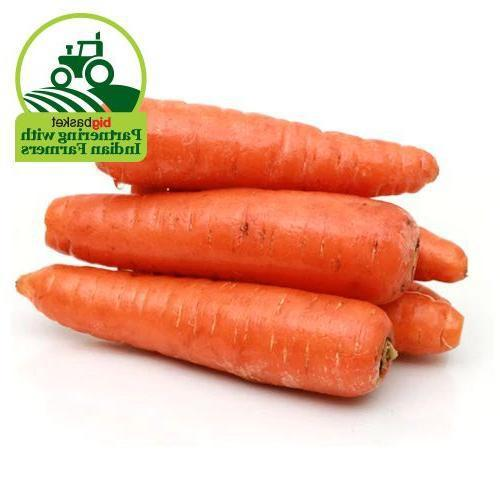carrot: (159, 107, 461, 397), (20, 249, 401, 404), (44, 197, 419, 299)
